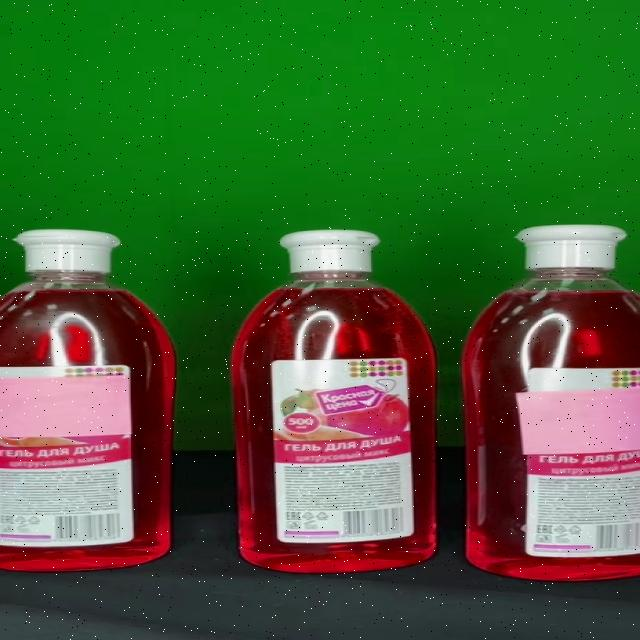Bottle: (230, 230, 437, 573), (463, 226, 640, 580), (0, 229, 178, 572)
Cap: (515, 226, 626, 269), (15, 230, 120, 273), (278, 230, 382, 272)
